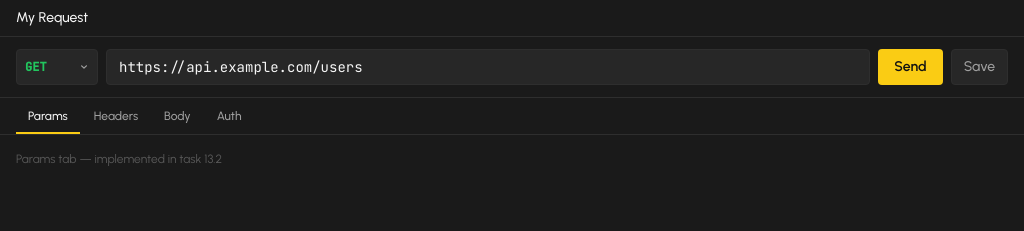
Test: RequestBuilder › auth type selector › renders exactly three auth type options when Auth tab is active
This screenshot has width=1024, height=231.
Click the tab "Auth" at (229, 116), box x1=205 y1=98 x2=254 y2=134
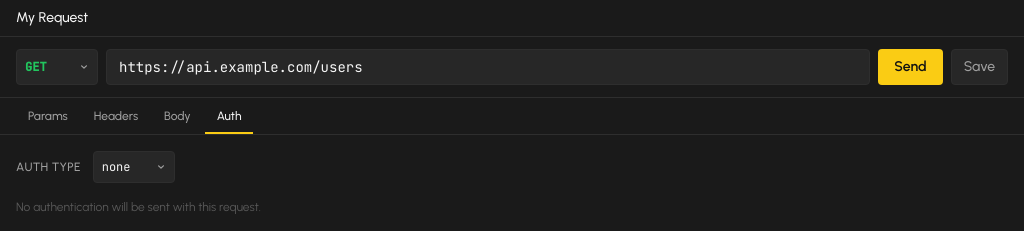
Check: the dropdown named "Authentication type" is shown, box x1=93 y1=151 x2=175 y2=183
